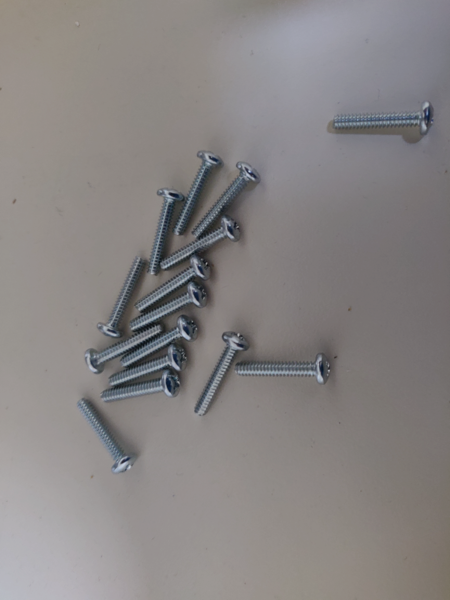longscrew: (190, 161, 262, 238), (75, 397, 132, 475), (170, 152, 221, 239), (194, 333, 246, 417), (95, 253, 147, 334), (120, 316, 199, 368), (161, 217, 236, 271), (137, 256, 211, 310), (79, 324, 162, 372), (128, 284, 211, 332), (142, 185, 182, 277), (232, 355, 336, 389), (333, 102, 435, 134), (107, 347, 187, 385), (100, 374, 181, 410)
